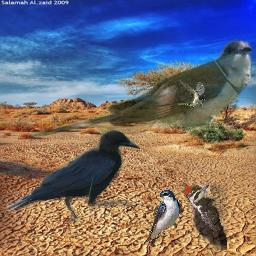Crow: (6, 129, 140, 224)
Cuckoo: (26, 38, 252, 142)
Swallow: (143, 189, 182, 245), (177, 80, 205, 110)
Woodpecker: (183, 183, 227, 250)
